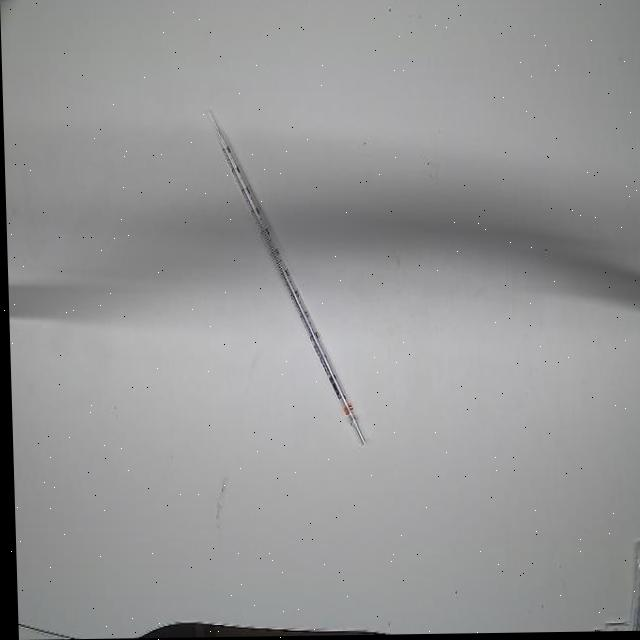Serelogical Pipet 10 mL: (204, 106, 371, 453)
